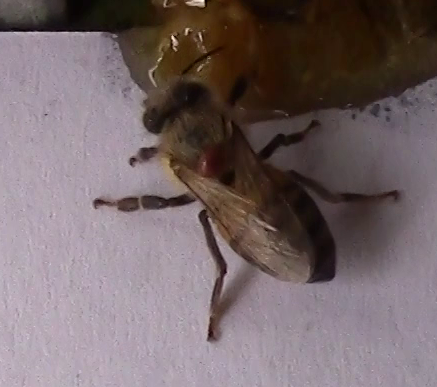Varroa destructor: (191, 139, 232, 179)
